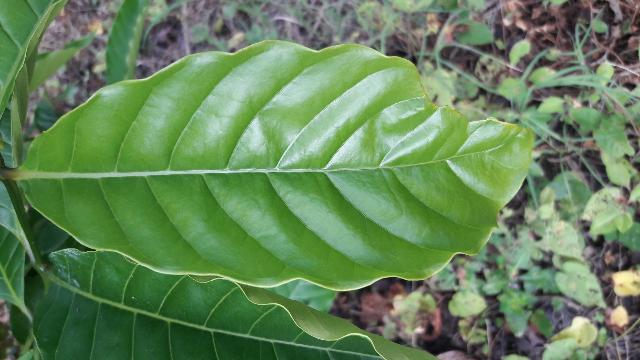healthy: (22, 40, 533, 292)
